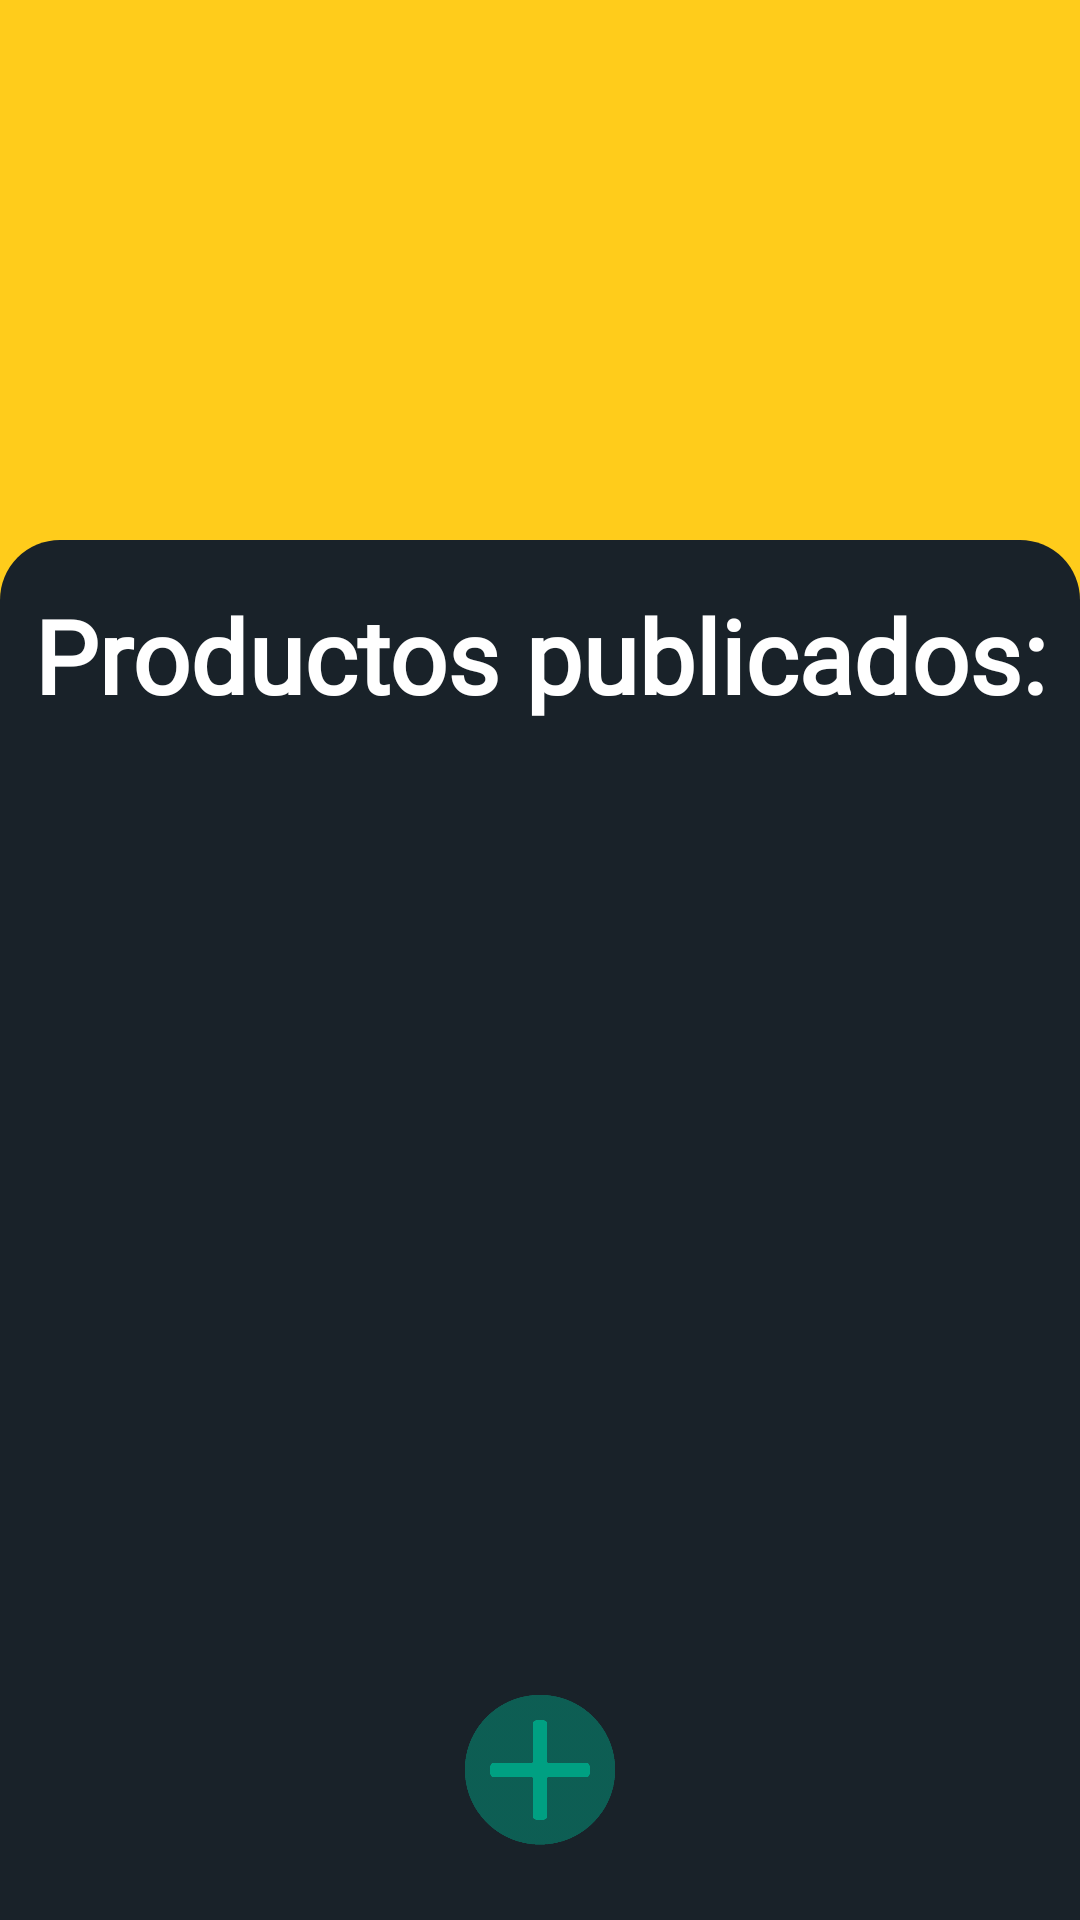

Named icons in this screenshot (1080×1920) and their bounding boxes, (x1, y1, x2, y2):
add: (465, 1695, 615, 1845)
